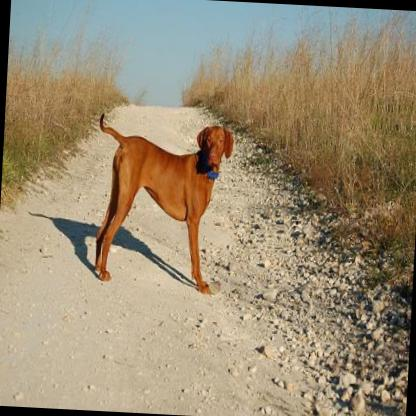vizsla: (88, 110, 233, 294)
